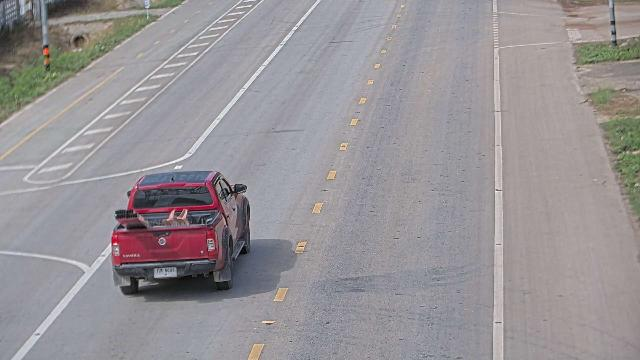pickup-truck: (110, 169, 251, 294)
